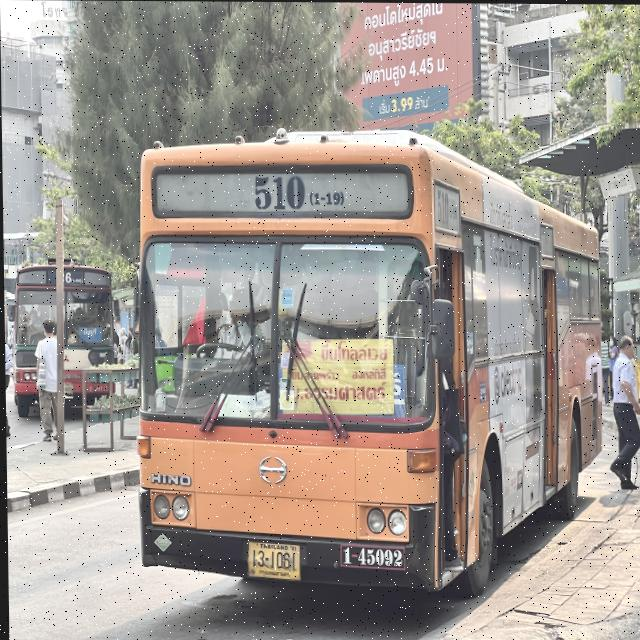BMTA-bus: (125, 114, 606, 610), (9, 250, 121, 410)
Bus-Line-Number: (249, 173, 347, 211), (53, 269, 84, 284)
Destination-Sign-Normal: (78, 325, 101, 342)
Destination-Sign-Normal-Expressway: (282, 341, 394, 417)
